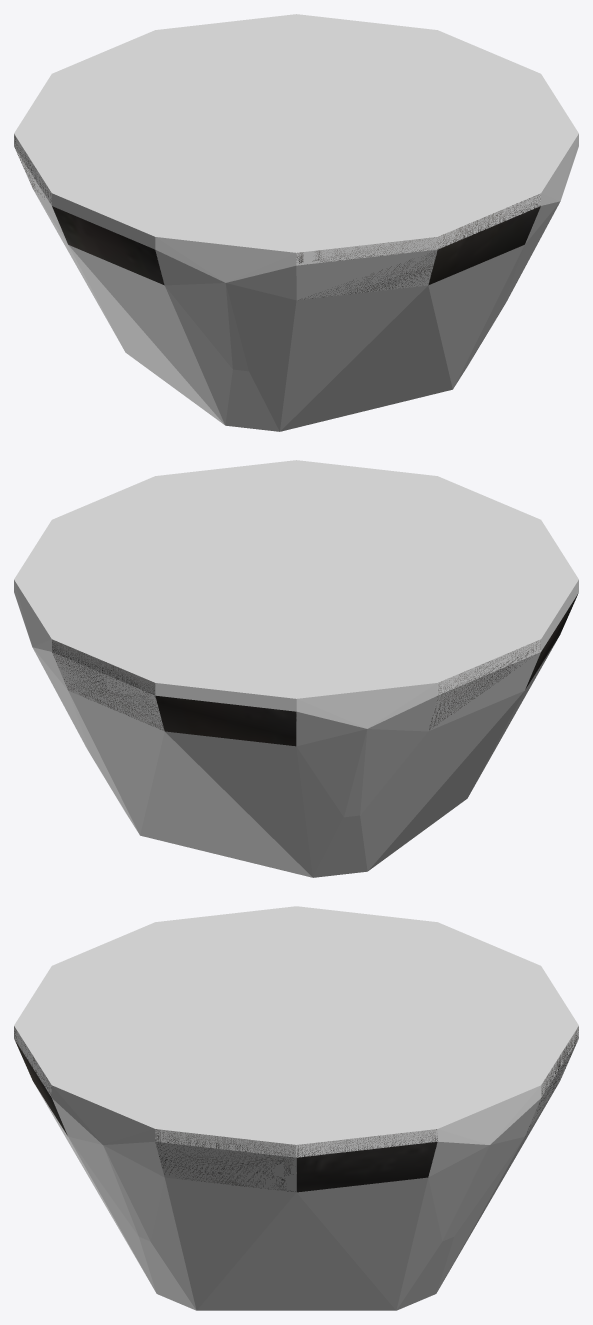
Rendered from brazier_pillartop.low.webp.glb.
3 views of the same model, one above another, from view 1: azimuth 30°, elevation 25°; view 2: azimuth 150°, elevation 25°; view 3: azimuth 270°, elevation 25° (orthographic).
Visible parts, largest first — view 1: COL, LOD1_body; view 2: COL, LOD1_body; view 3: COL, LOD1_body.
Boxes of the visible parts, x1,y1,x2,y2 form: COL: (14,14,578,431); LOD1_body: (14,135,540,299); COL: (14,460,578,877); LOD1_body: (52,593,578,746); COL: (14,906,578,1310); LOD1_body: (14,1026,578,1192).
Size of the model in its own units: 1.2 by 0.5388 by 1.2.
Materials: 2 (1 with a texture image).
